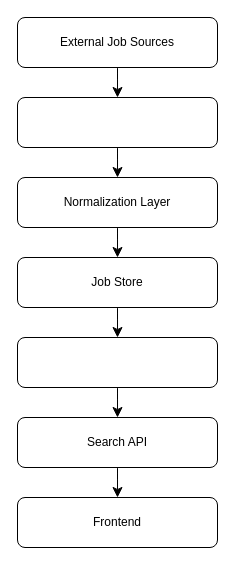
Image size: 245x565. Some labels were removed from this diagram. Each missing label, with the centre of its shape:
"Availability Checker" goes at pixel 117 362.
"Ingestion Adapters" goes at pixel 117 122.
